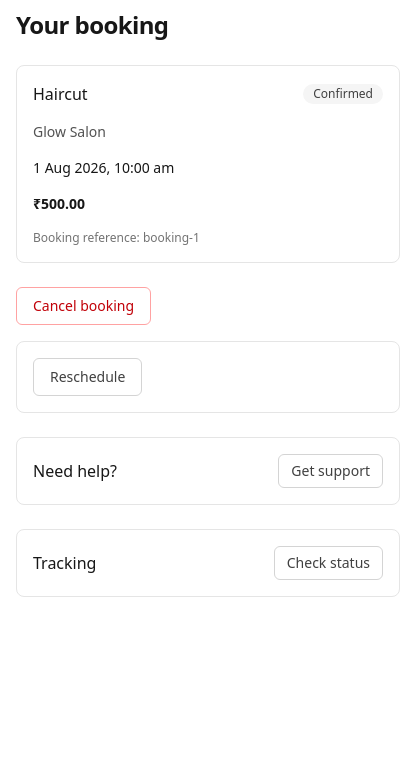
Test case: BookingStatusPage › shows a failure state with retry when cancellation fails
Click the button "Cancel booking": click(84, 306) [16,287,151,325]
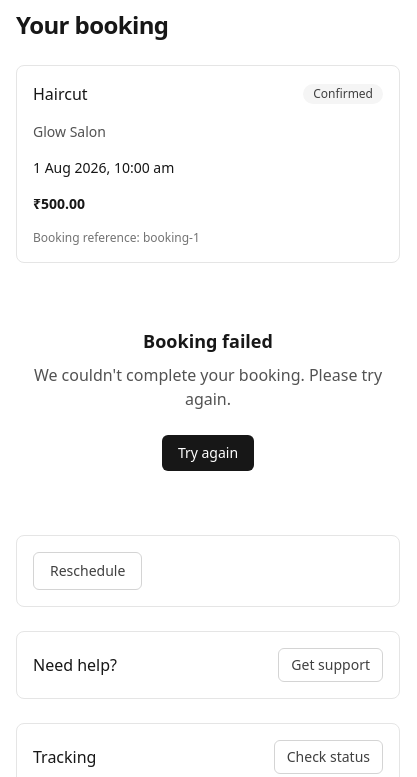
Check: the heading "Booking failed" is shown, box [143,327,273,355]
